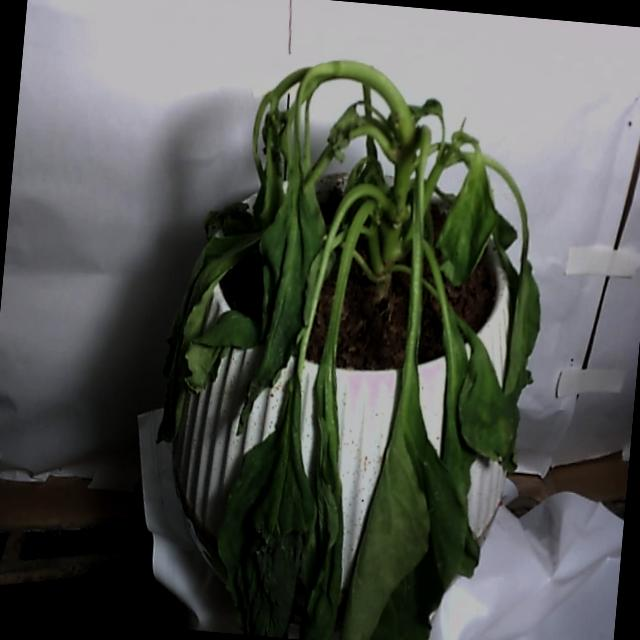Leaf: (343, 393, 476, 640), (210, 418, 322, 640), (288, 379, 365, 640), (456, 342, 524, 461)
